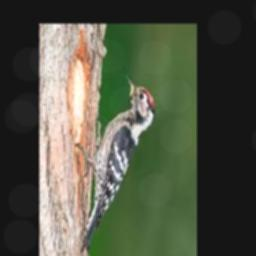Woodpecker: (76, 75, 156, 251)
